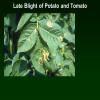Potato leaf late blight: (37, 19, 65, 46), (30, 40, 51, 74), (17, 22, 38, 54)
